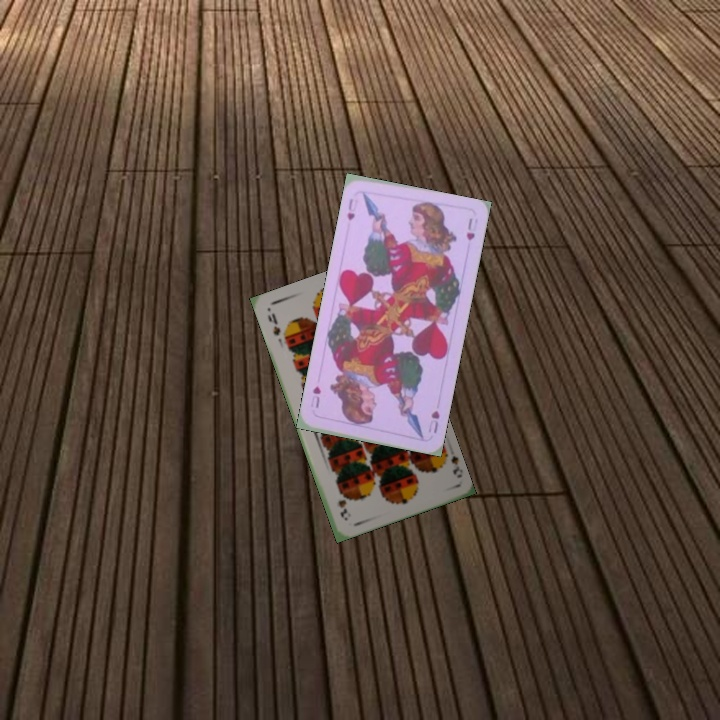HU: (424, 406, 442, 436), (343, 194, 360, 223)
S9: (436, 444, 465, 481), (264, 309, 283, 338)
